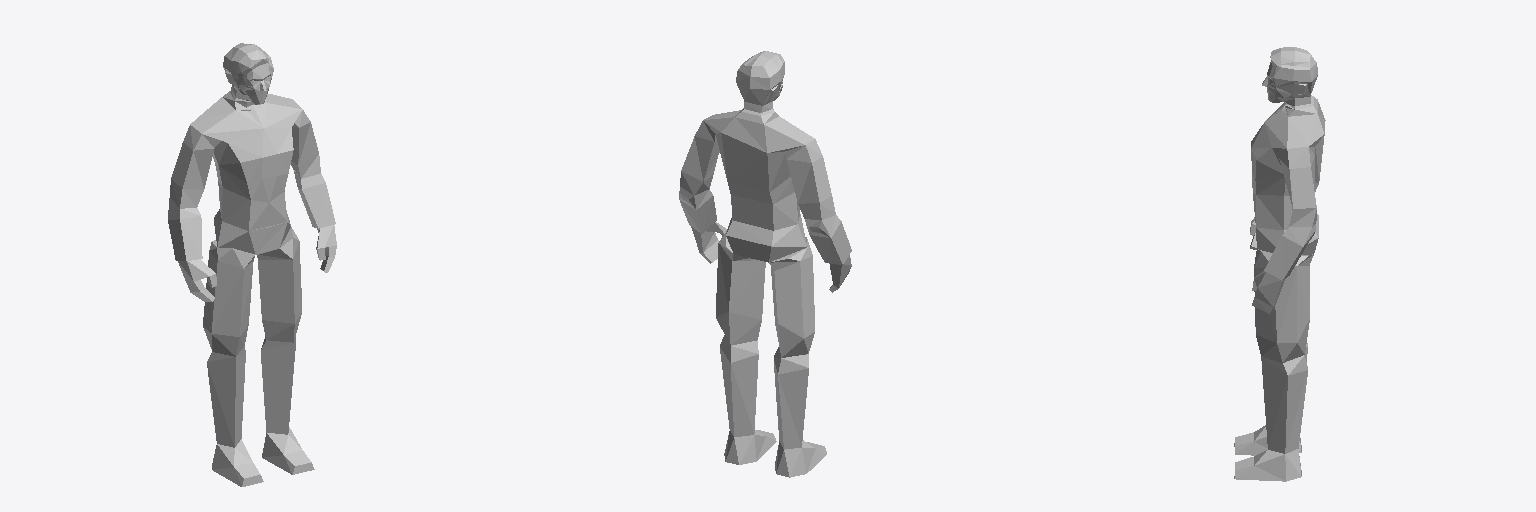
File: Manuel14.obj
The picture shows the model from 3 angles: view 1: azimuth 30°, elevation 25°; view 2: azimuth 150°, elevation 25°; view 3: azimuth 270°, elevation 25°; orthographic projection.
Visible parts, largest first — view 1: leon; view 2: leon; view 3: leon.
Boxes of the visible parts, x1,y1,x2,y2 form: leon: [168, 43, 336, 486]; leon: [679, 51, 851, 477]; leon: [1234, 47, 1325, 481].
Size of the model in its own units: 4.8 by 12.18 by 2.44.